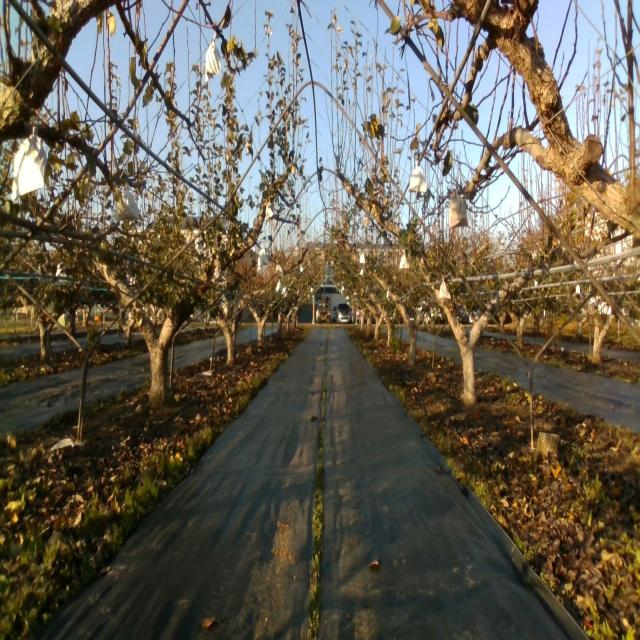pearbags: (10, 124, 49, 197), (111, 185, 142, 221), (204, 30, 222, 79), (448, 188, 468, 228), (409, 159, 427, 196), (212, 262, 228, 286), (437, 276, 452, 300), (256, 246, 270, 268), (399, 249, 413, 270)
